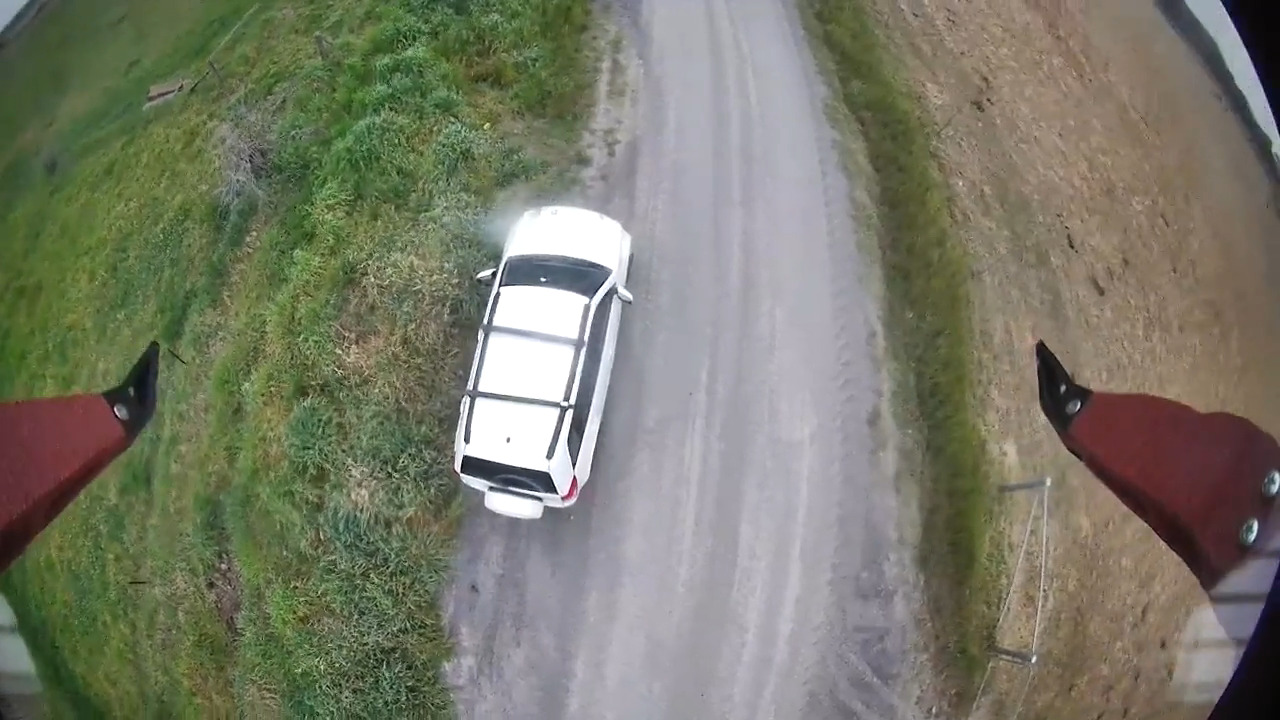Car: (452, 205, 634, 520)
